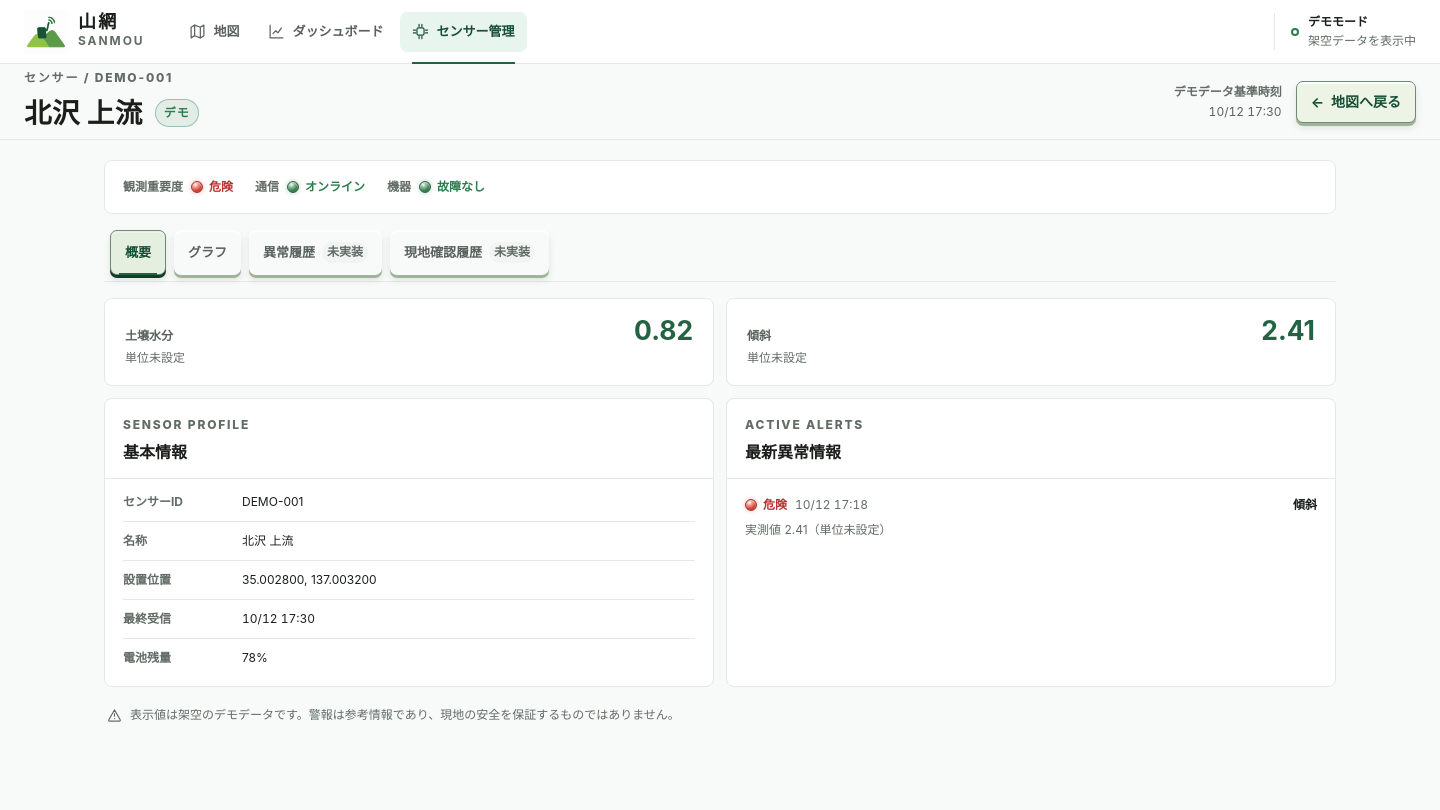
SensorDetail › 土壌水分と傾斜を別グラフで表示し未確定項目を明示する
What coordinates should you click on to do the following:
click the tab "グラフ"
I would click on:
 (208, 252)
Its box is 174,230 -> 241,275.
(page scrolled)
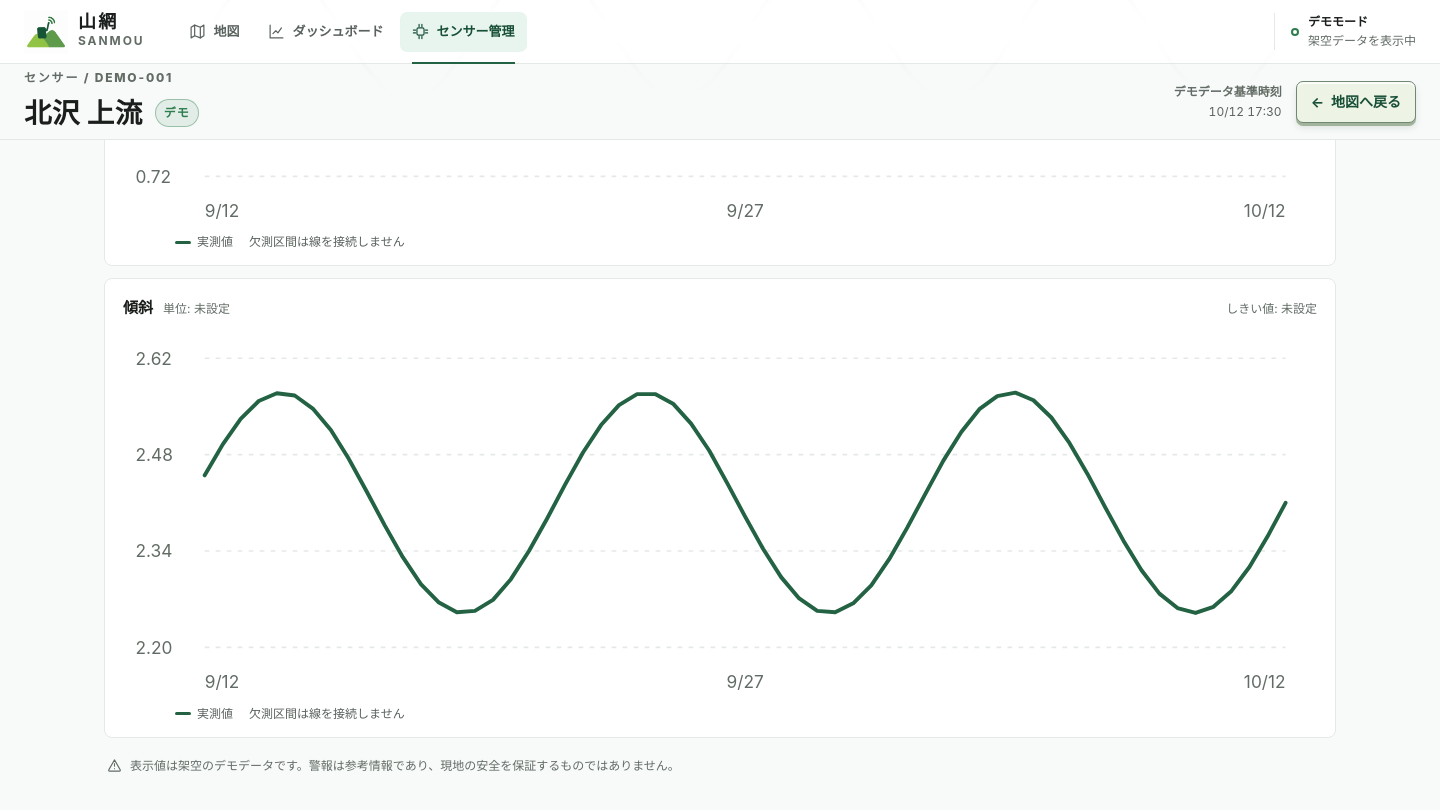
Expected: the picture named "傾斜のデモ時系列グラフ" is shown, 123,330 -> 1317,701
Expected: the text "単位: 未設定" is shown 2 times
Expected: the text "しきい値: 未設定" is shown 2 times
